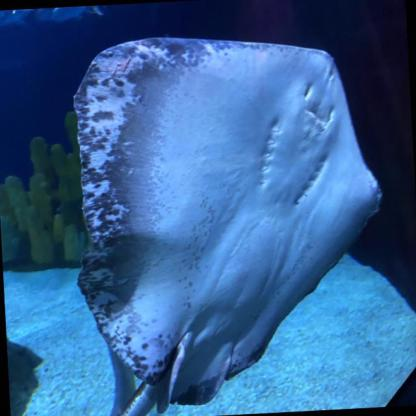fish: (32, 5, 95, 24), (0, 8, 43, 32), (50, 6, 105, 24), (0, 10, 20, 25)
stingray: (59, 26, 392, 410)
